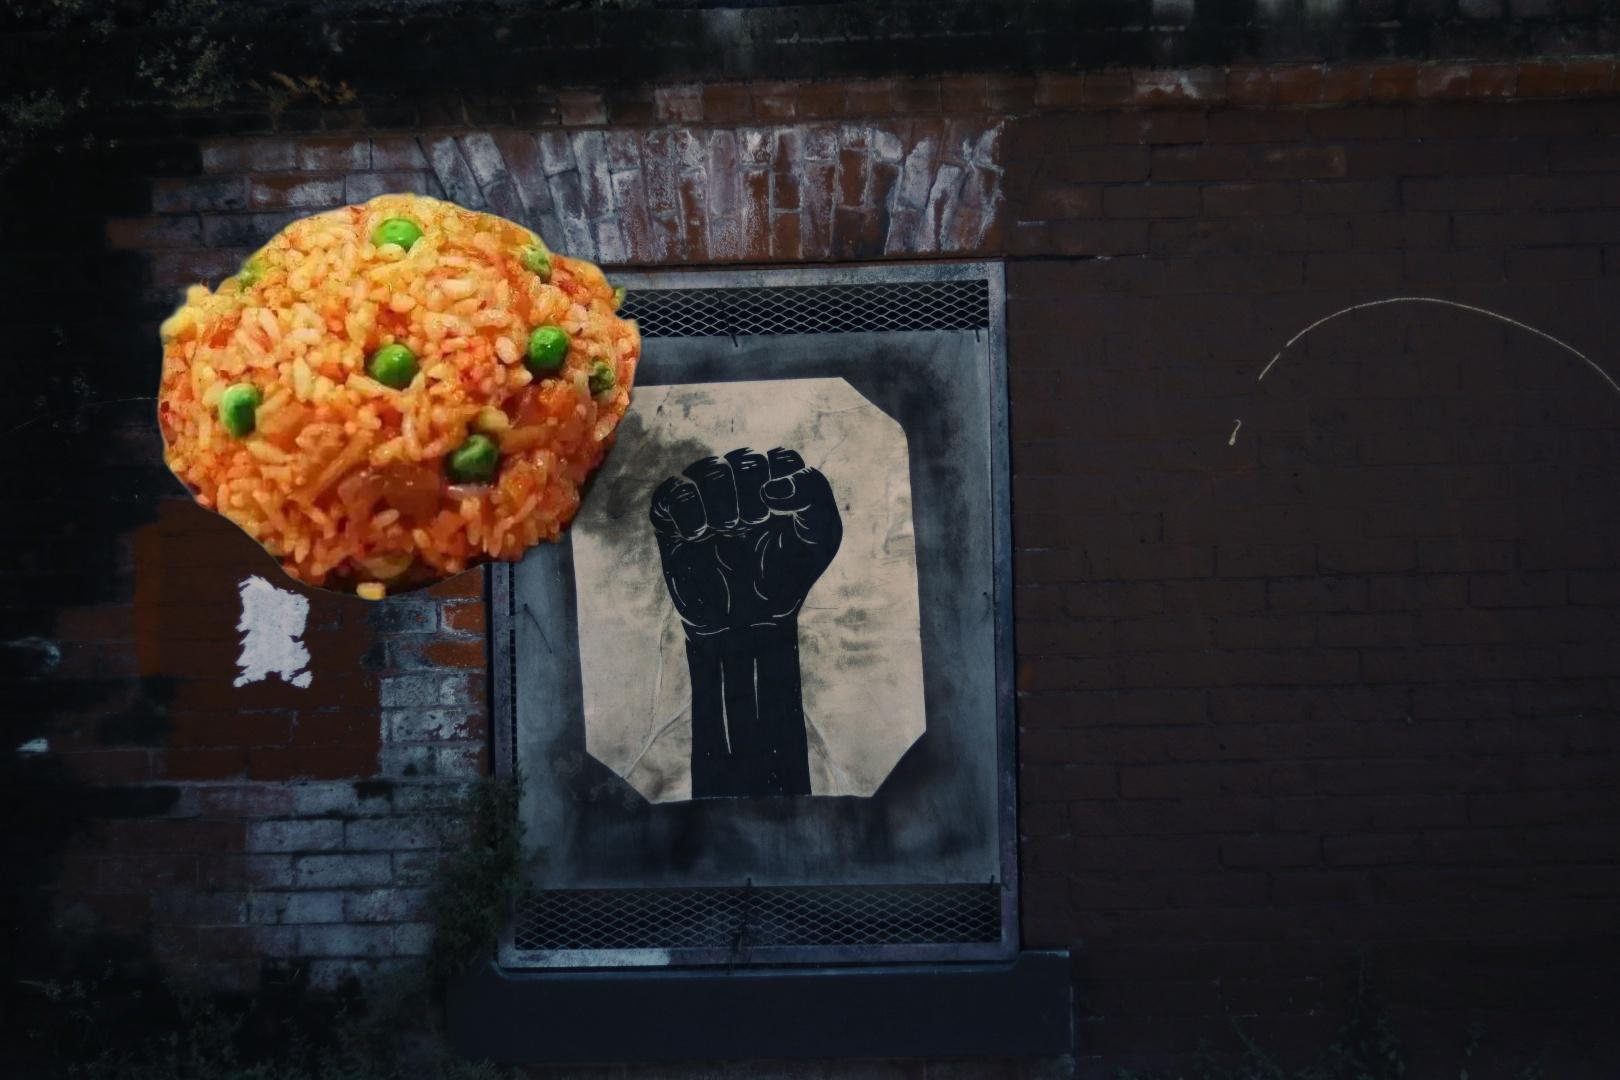biological: (152, 182, 648, 606)
